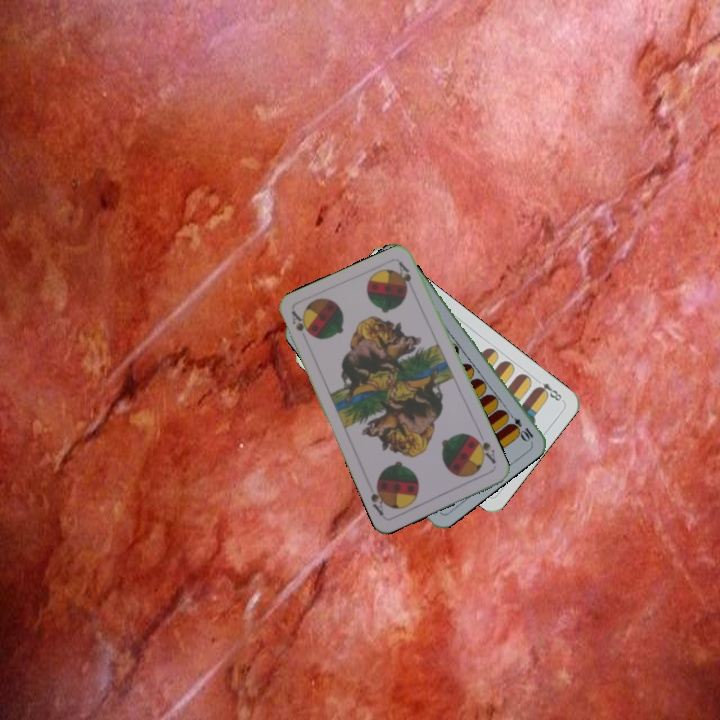E10: (503, 408, 536, 444)
E8: (531, 374, 566, 404)
SA: (470, 433, 498, 467), (288, 307, 314, 339)
